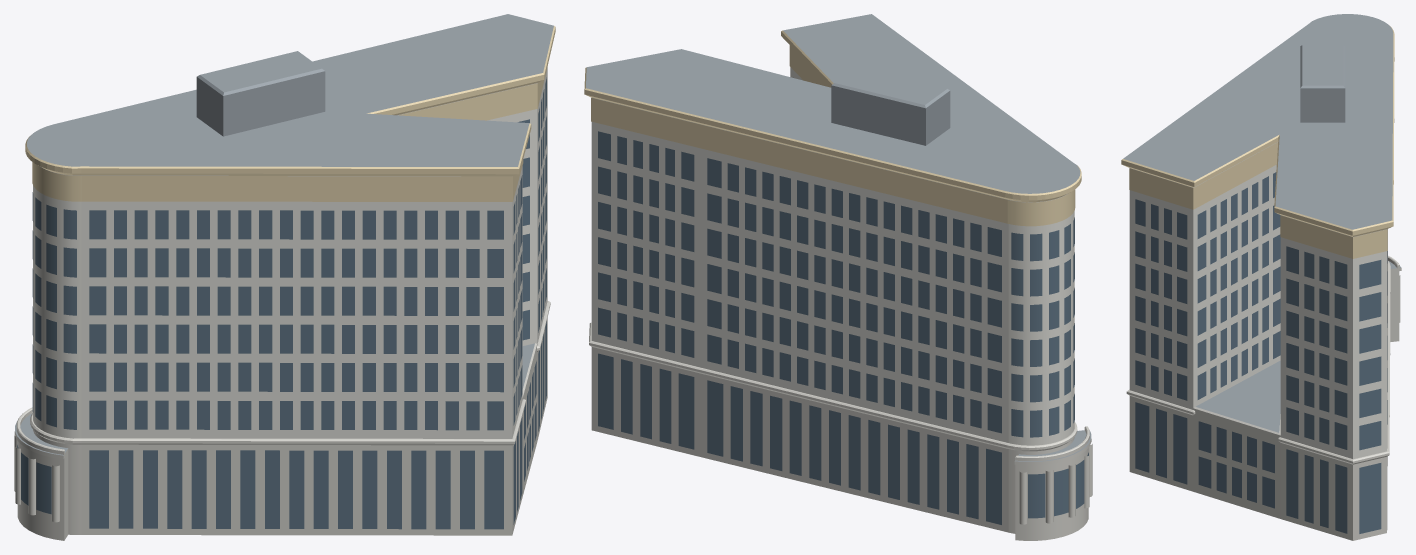
Rendered from atl-hurt-building.glb.
3 views of the same model, side by side, from view 1: azimuth 30°, elevation 25°; view 2: azimuth 150°, elevation 25°; view 3: azimuth 270°, elevation 25° (orthographic). The views are drawn at different scales.
Visible parts, largest first — view 1: Hurt Building; view 2: Hurt Building; view 3: Hurt Building.
Part boxes in pixels (bbox=[...]): Hurt Building: bbox=[14, 14, 555, 540]; Hurt Building: bbox=[584, 14, 1092, 540]; Hurt Building: bbox=[1121, 14, 1401, 540].
Bounding box in the file's own units: 105 × 77.5 × 56.28.
